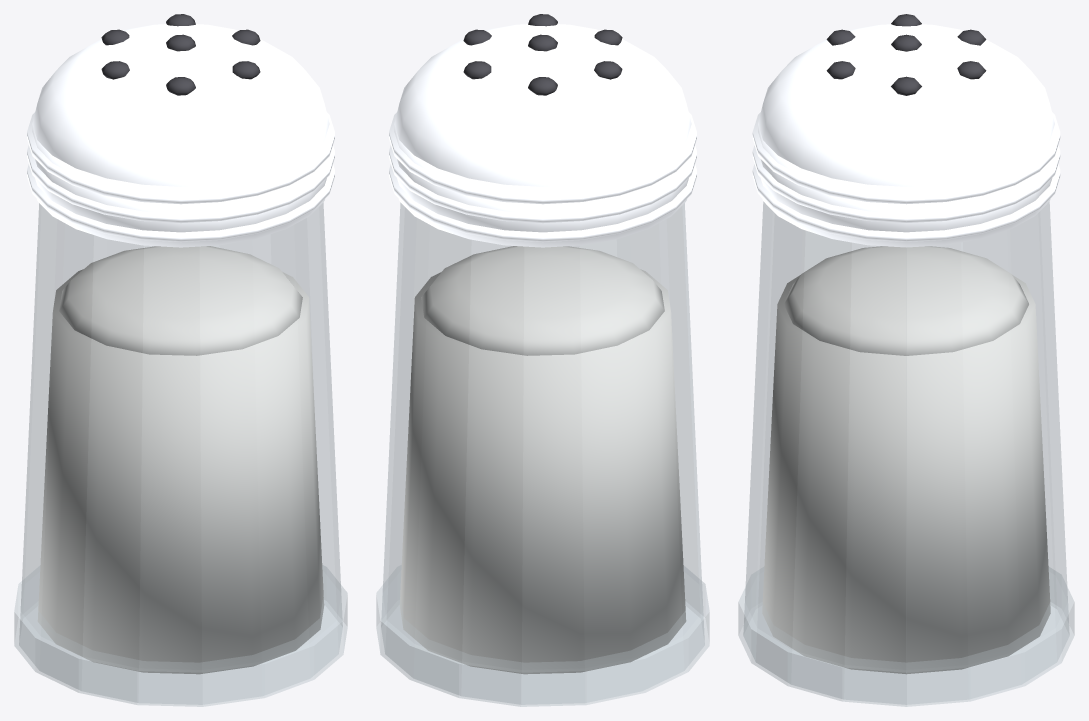
The model's file is salt_shaker.glb.
3 views of the same model, side by side, from view 1: azimuth 30°, elevation 25°; view 2: azimuth 150°, elevation 25°; view 3: azimuth 270°, elevation 25° (orthographic).
Visible parts, largest first — view 1: Body, Contents, Cap, Holes; view 2: Body, Contents, Cap, Holes; view 3: Body, Contents, Cap, Holes.
Part boxes in pixels (x1,y1,x2,y2): Body: [14, 203, 347, 706]; Contents: [37, 246, 324, 674]; Cap: [27, 24, 334, 247]; Holes: [101, 14, 260, 95]; Body: [376, 203, 709, 706]; Contents: [399, 246, 686, 674]; Cap: [389, 24, 696, 247]; Holes: [463, 14, 622, 95]; Body: [738, 202, 1074, 706]; Contents: [762, 246, 1050, 674]; Cap: [752, 24, 1060, 247]; Holes: [826, 14, 986, 95].
Size of the model in its own units: 0.1607 by 0.3158 by 0.1607.
